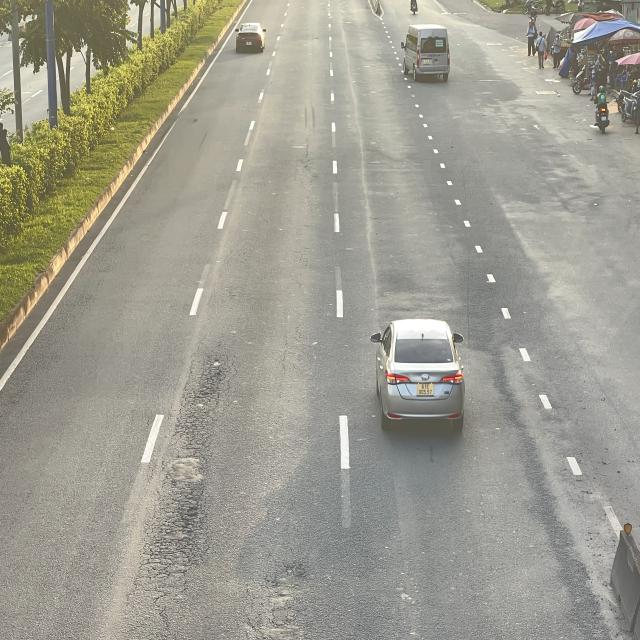car: (372, 317, 467, 434), (235, 22, 266, 52)
van: (402, 24, 452, 84)
